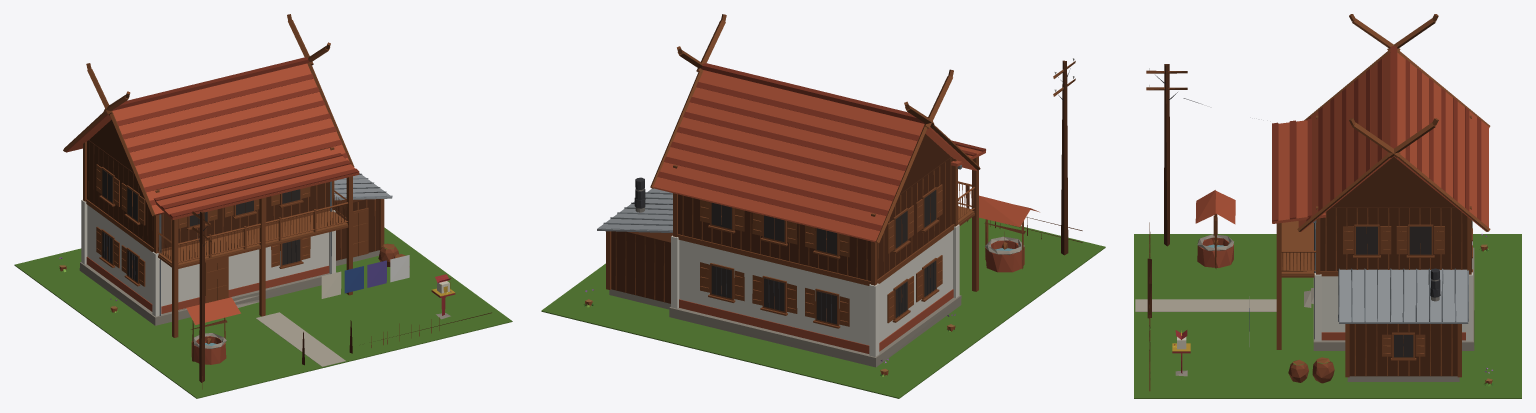
The model's file is home_3.glb.
The picture shows the model from 3 angles, left to right: view 1: azimuth 30°, elevation 25°; view 2: azimuth 150°, elevation 25°; view 3: azimuth 270°, elevation 25°; orthographic projection. The views are drawn at different scales.
Visible parts, largest first — view 1: body, windows; view 2: body, windows; view 3: body, windows.
Part boxes in pixels (<box>): body: <box>14,14,512,398</box>; windows: <box>102,169,300,282</box>; body: <box>541,14,1105,398</box>; windows: <box>711,190,936,324</box>; body: <box>1134,14,1521,398</box>; windows: <box>1356,226,1431,357</box>.
Bounding box in the file's own units: 15.9 × 11.02 × 15.9.
